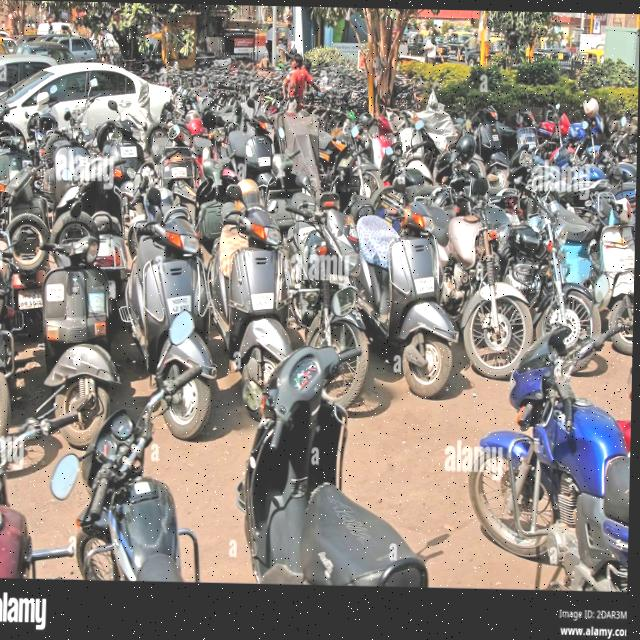plate: (250, 288, 277, 310), (167, 293, 195, 313), (18, 290, 43, 310), (413, 274, 438, 293), (47, 282, 66, 304), (617, 251, 636, 267), (120, 144, 139, 158), (171, 164, 188, 177), (257, 154, 271, 166), (0, 317, 3, 334)
